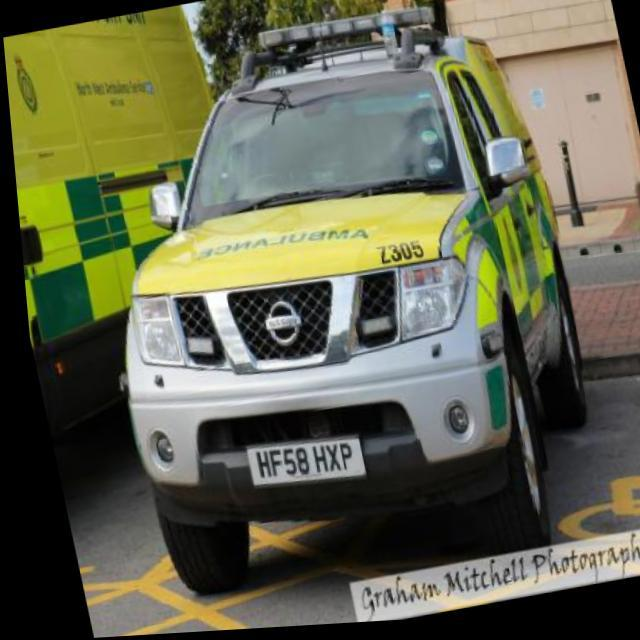license_plate: (234, 428, 358, 499)
